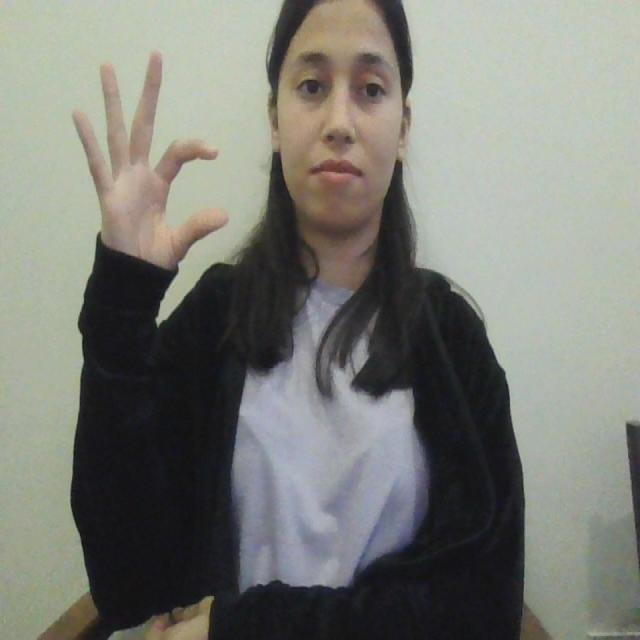Tuvalet: (59, 39, 239, 292)
